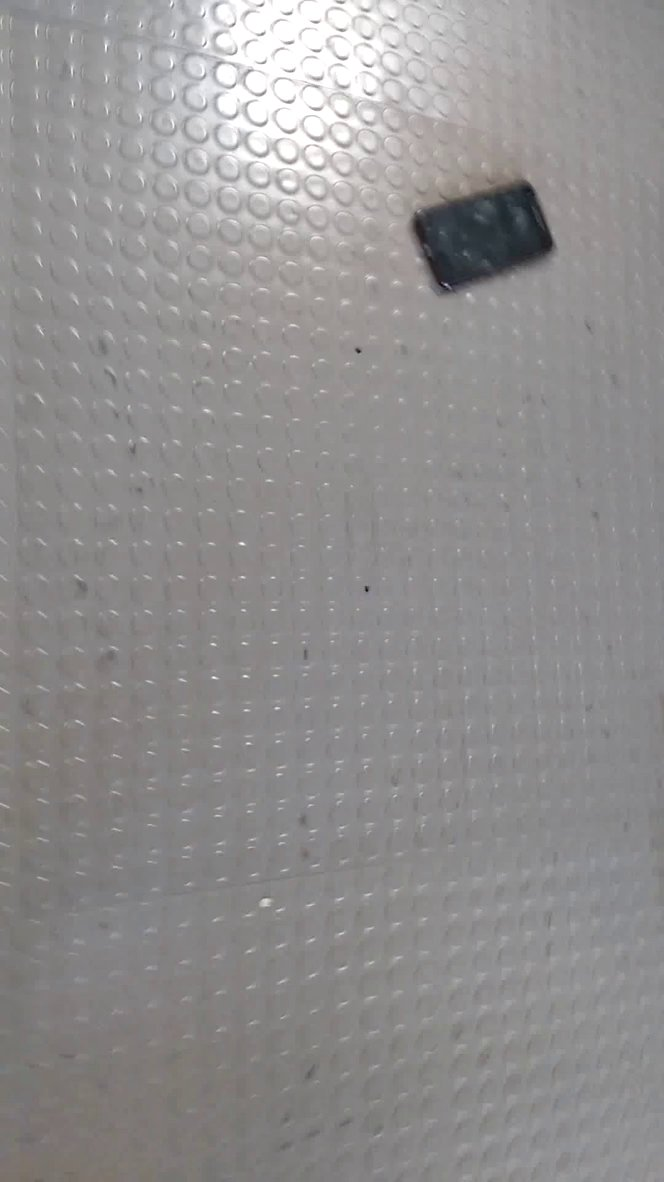phone: (398, 169, 571, 302)
